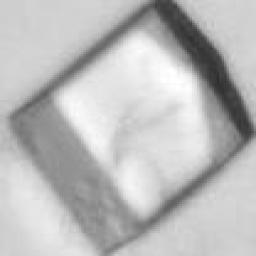crystals: (5, 1, 254, 254)
